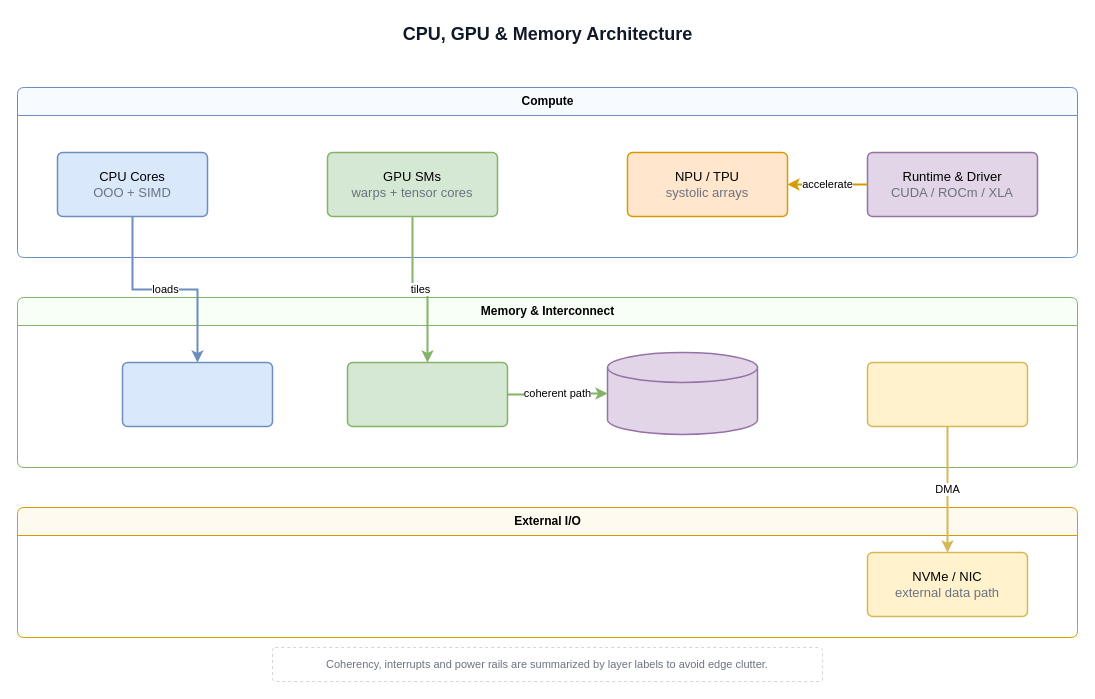
Image size: 1095x699. Some labels were removed from this diagram. Here are the shapes that lost their labels. From the top down, the centre of each, then its label:
(197,394): Shared Cache L2 / LLC
(427,394): On-chip Fabric mesh / ring
(682,393): DDR / HBM channels + stacks
(947,394): PCIe / CXL coherency + DMA
